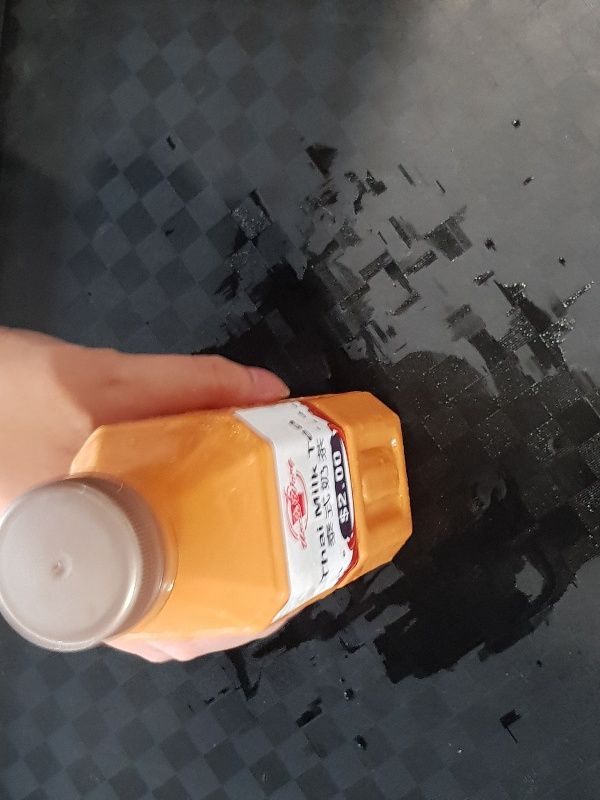Thai Milk Tea: (1, 389, 415, 664)
